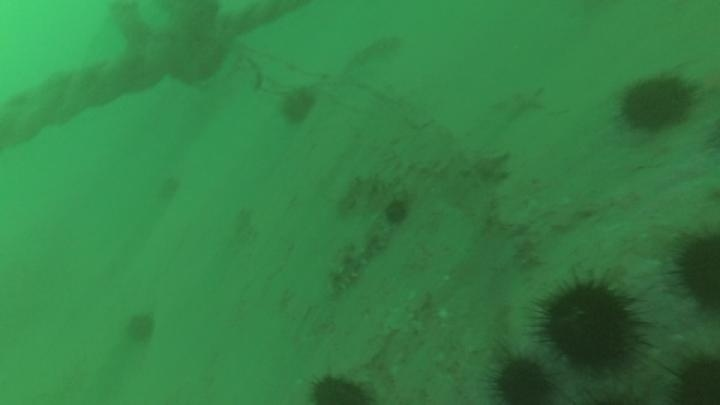echinus: (531, 271, 648, 376), (615, 70, 698, 135), (668, 225, 720, 316), (488, 353, 556, 404), (666, 350, 720, 405), (306, 370, 376, 404), (273, 85, 315, 129), (123, 310, 159, 347), (146, 174, 177, 206)
holothurian: (325, 213, 389, 297), (334, 169, 405, 214)
starfish: (489, 82, 547, 125), (460, 147, 514, 189)
